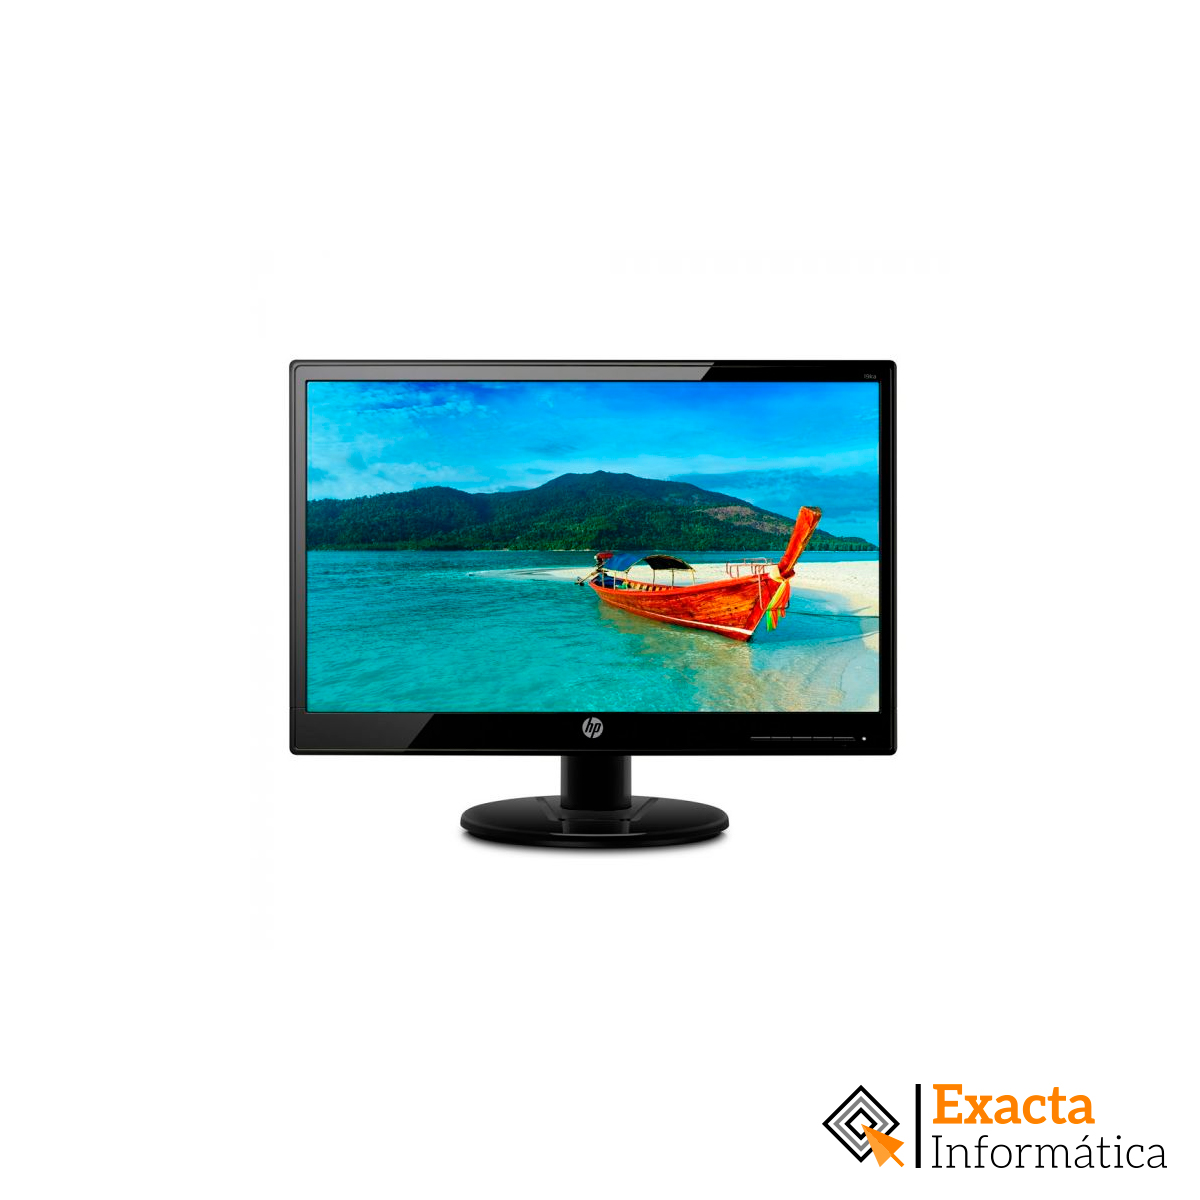hp-monitor-19ka: (276, 353, 907, 853)
